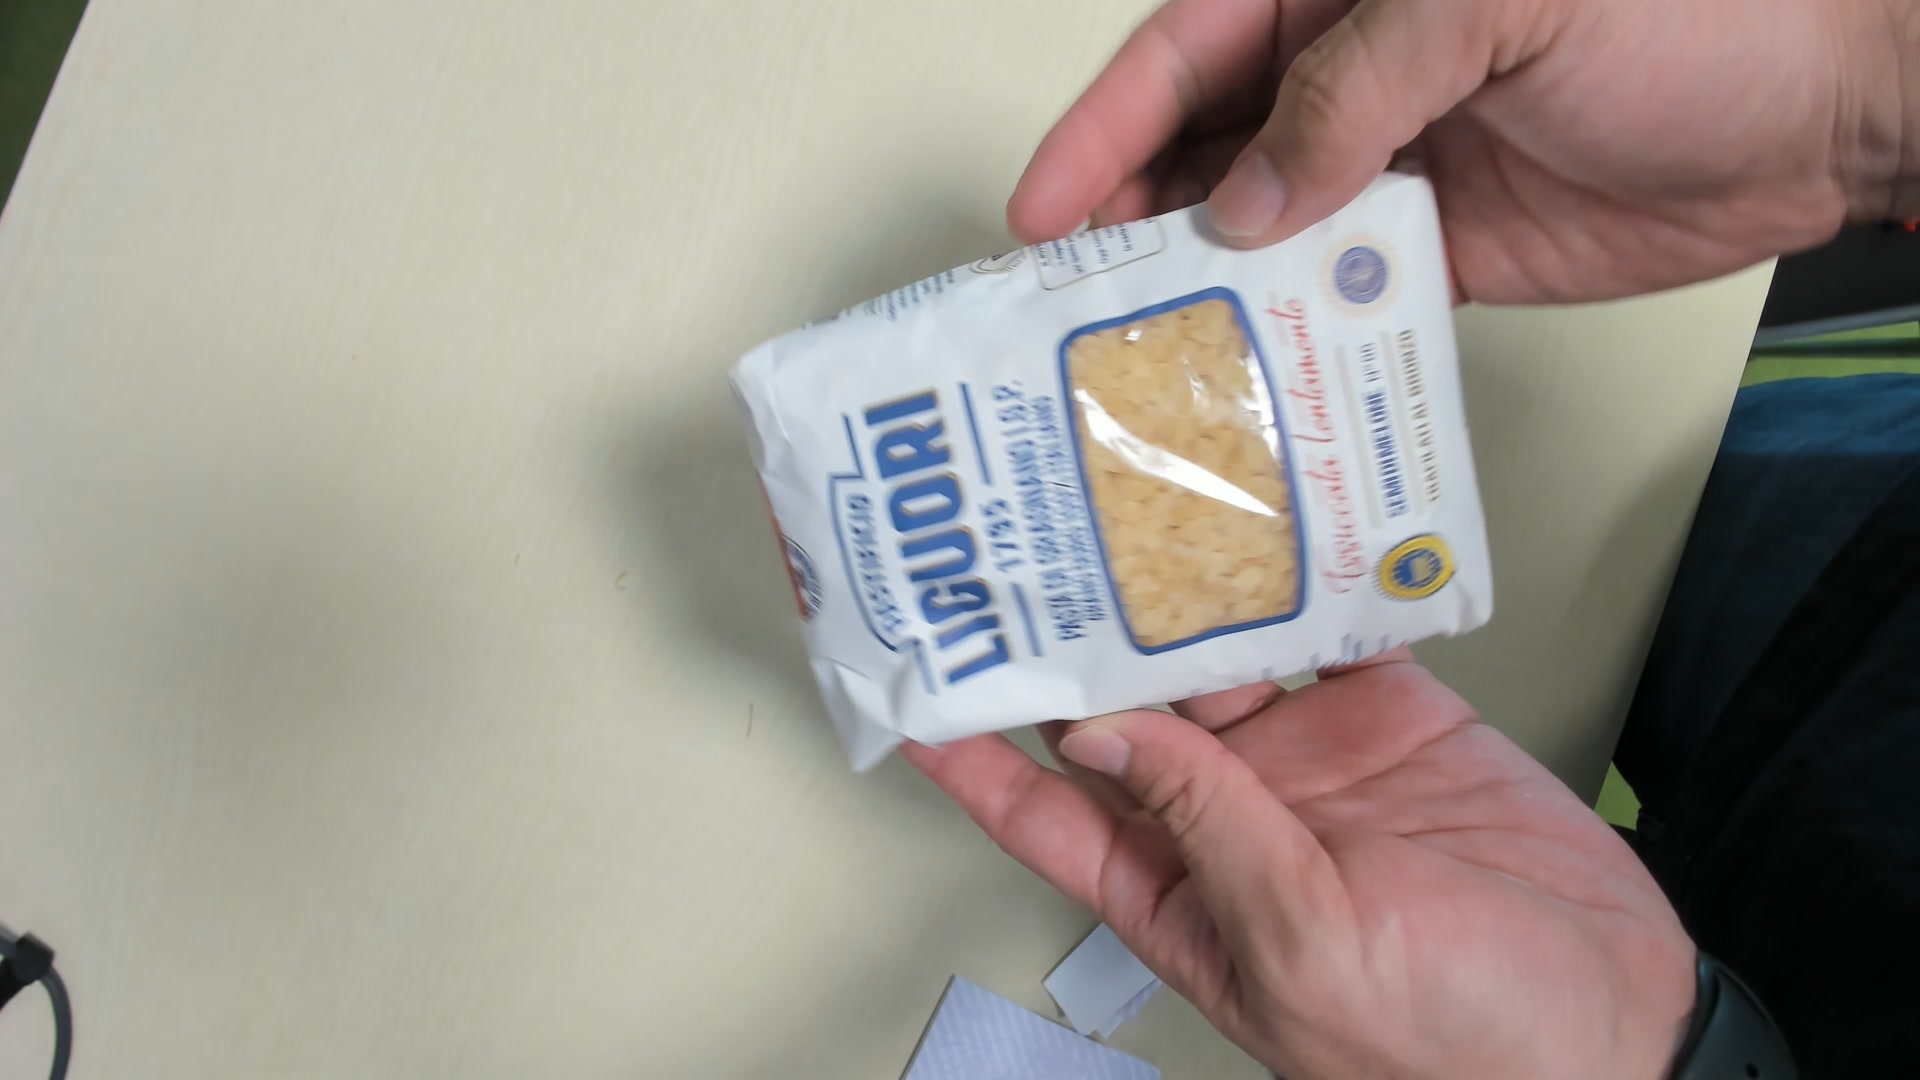Pasta_500-599g_NonHalal_NonHealthy: (721, 161, 1501, 775)
